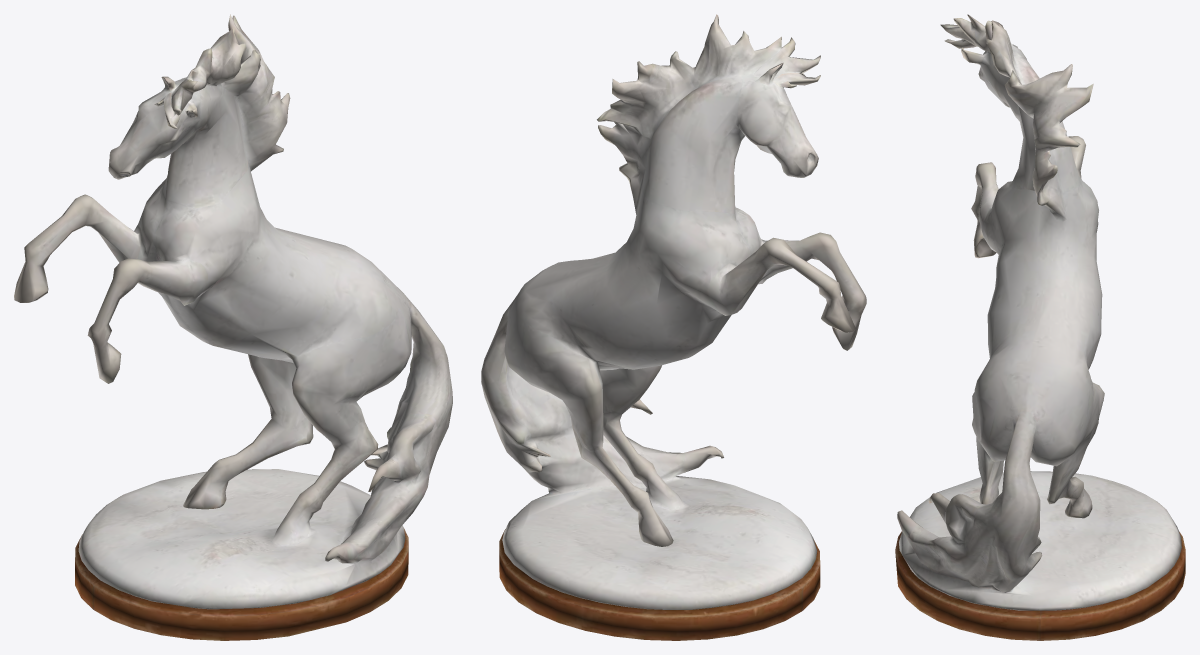
File: horse.glb
3 views of the same model, side by side, from view 1: azimuth 30°, elevation 25°; view 2: azimuth 150°, elevation 25°; view 3: azimuth 270°, elevation 25° (orthographic). The views are drawn at different scales.
Visible parts, largest first — view 1: horse_statue_01; view 2: horse_statue_01; view 3: horse_statue_01.
Boxes of the visible parts, x1,y1,x2,y2 form: horse_statue_01: (14,14,452,640); horse_statue_01: (481,14,866,640); horse_statue_01: (895,14,1185,640).
Size of the model in its own units: 0.1638 by 0.22 by 0.1078.
1 material, 1 textured.
